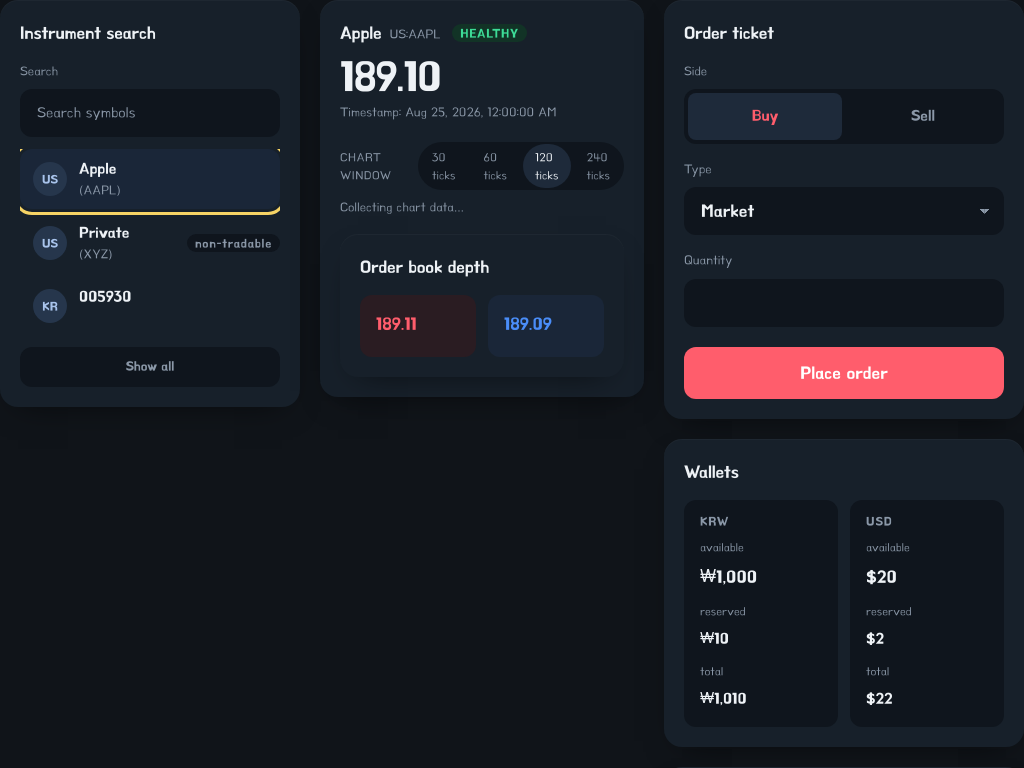
TradePage › keeps the full list, toggles the selection off, and resets via Show all
This screenshot has width=1024, height=768.
Check: the text "189.10" is shown, box [340, 56, 441, 96]
Check: the button "US Private (XYZ)" is shown, box [20, 213, 179, 273]
# Clicking the selected row again deselects it.
Click the button "US Apple (AAPL)" at point(50, 179), box [20, 149, 280, 209]
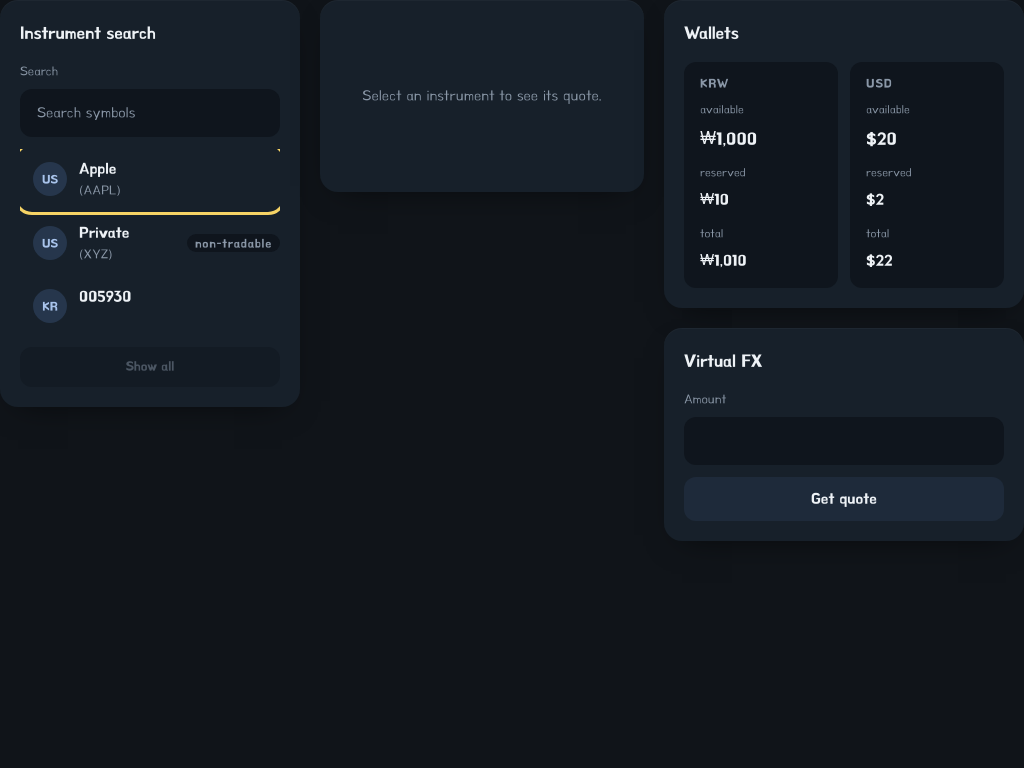
Check: the text "Select an instrument to see its quote." is shown, box [320, 0, 644, 192]
Check: the button "Show all" is disabled, box [20, 346, 280, 386]
# A search enables the reset control, which clears the query.
Type "AAPL" into the field labelled "Search" at point(150, 113), box [20, 89, 280, 137]
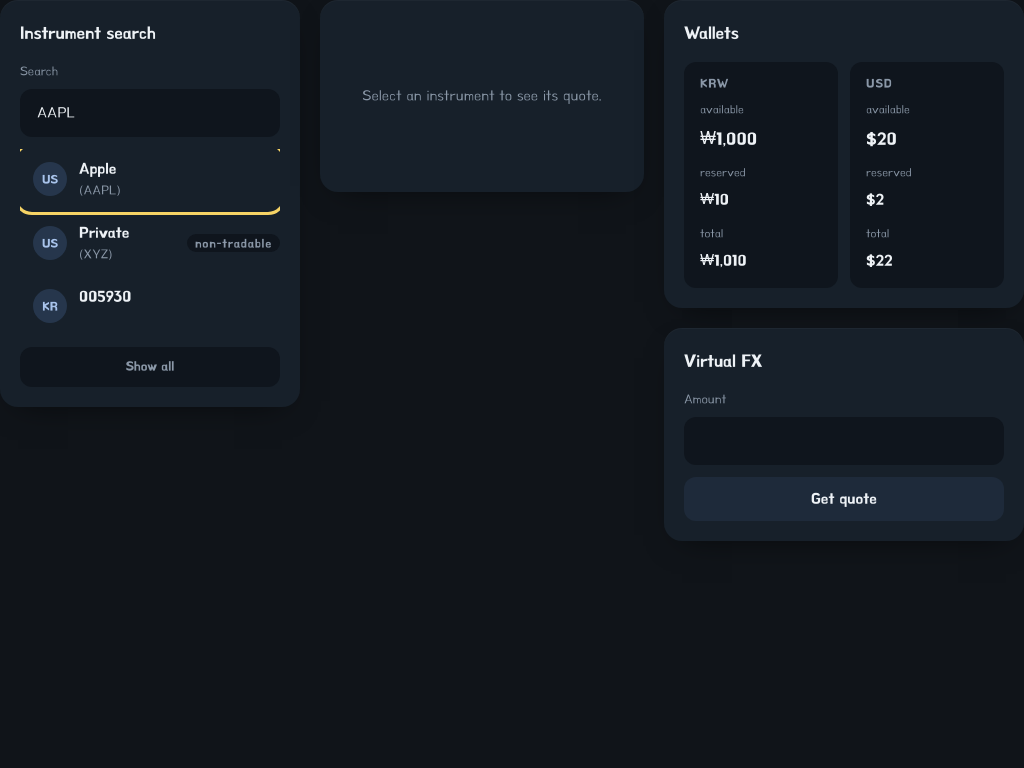
Check: the button "Show all" is enabled
Click the button "Show all" at point(150, 366), box [20, 346, 280, 386]
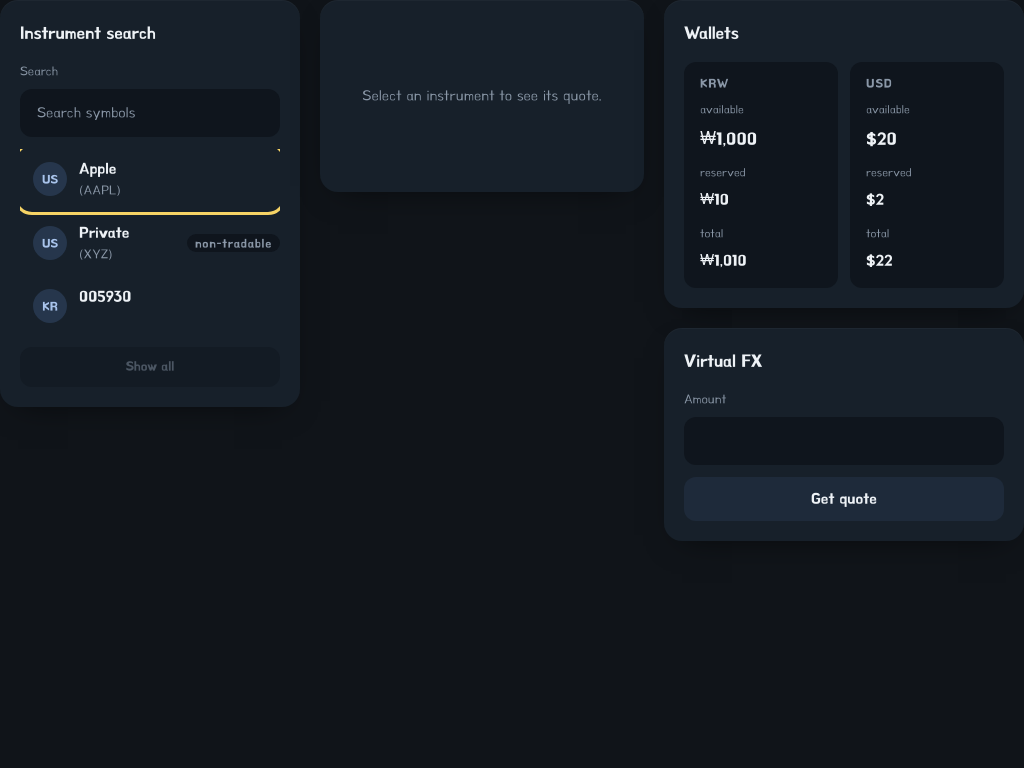
Check: the field labelled "Search" is empty, box [20, 89, 280, 137]
Check: the button "Show all" is disabled, box [20, 346, 280, 386]
